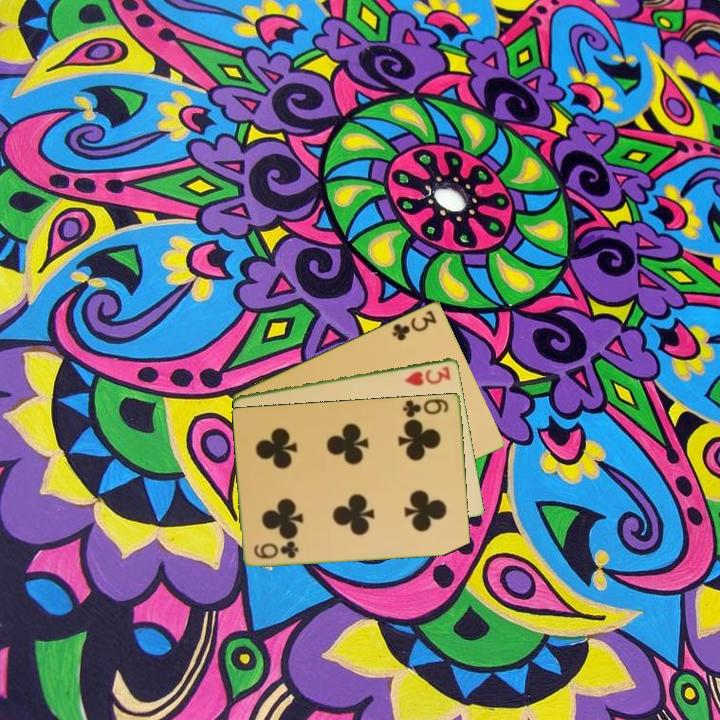3c: (389, 306, 440, 343)
3h: (401, 362, 454, 388)
6c: (399, 395, 451, 420), (251, 539, 302, 561)
